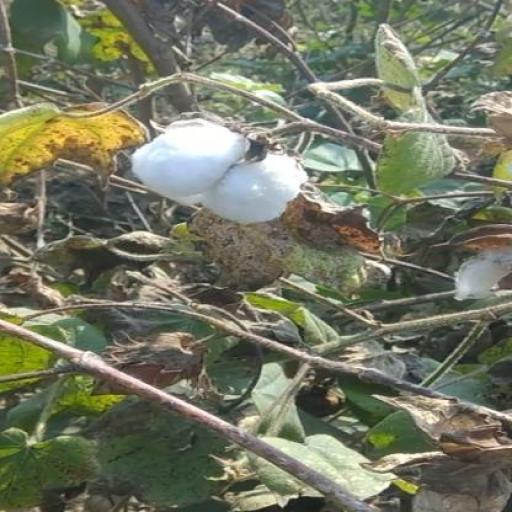cotton_ready: (128, 115, 306, 231)
